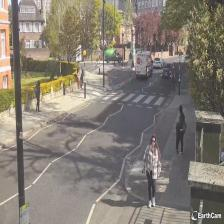person: (142, 134, 160, 208)
